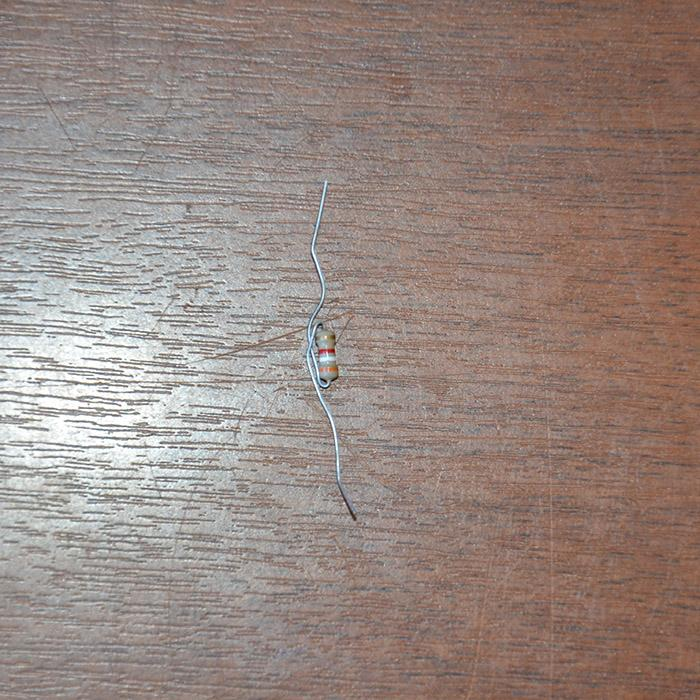resistor: (313, 322, 338, 383)
